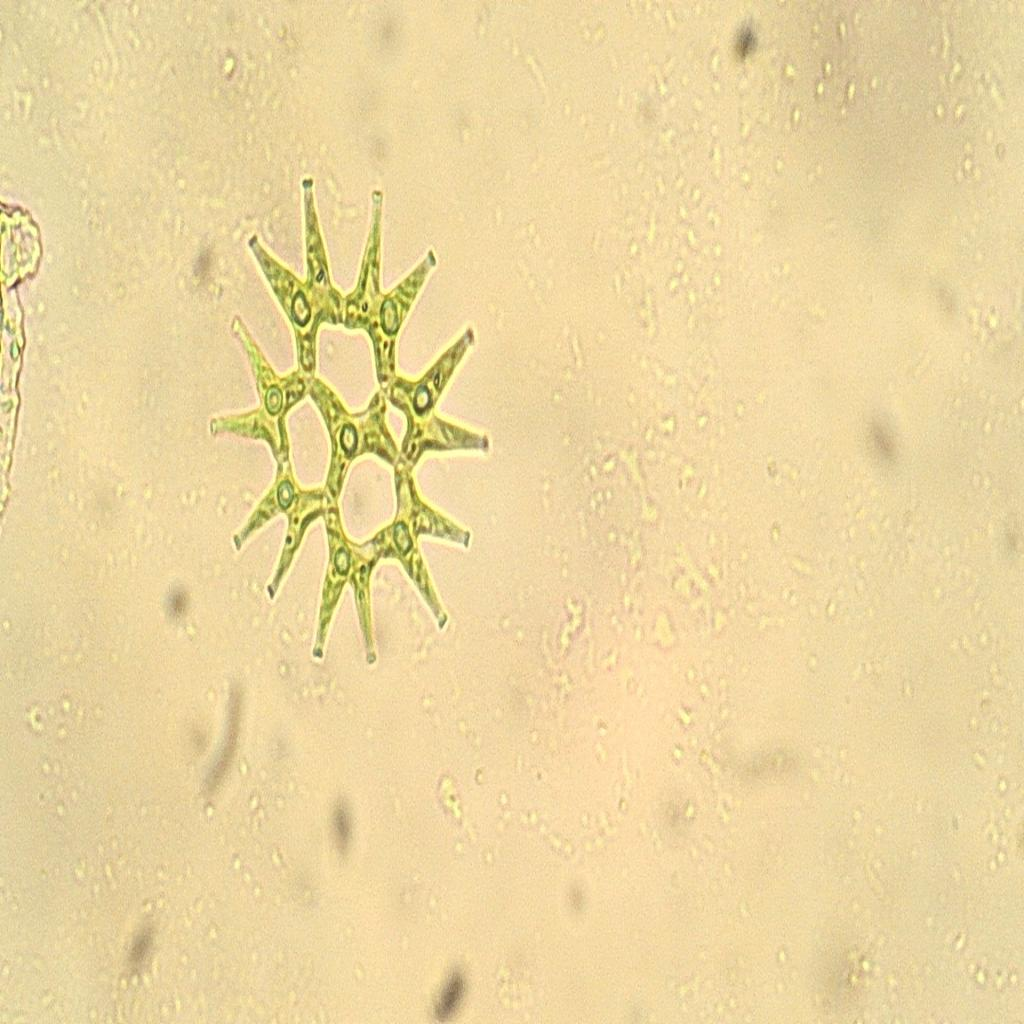Pediastrum_CTH: (197, 152, 517, 705)
